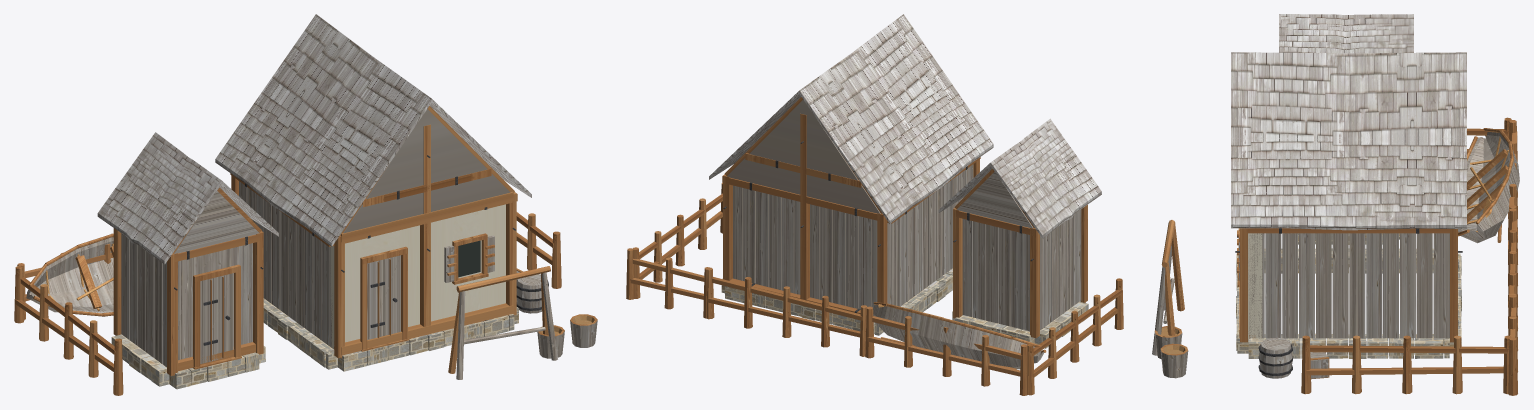
Rendered from fishing_camp_textured_v3.glb.
3 renders of one model, left to right at view 1: azimuth 30°, elevation 25°; view 2: azimuth 150°, elevation 25°; view 3: azimuth 270°, elevation 25°, orthographic. The views are drawn at different scales.
Parts seen in each view (by area): view 1: FC_Main_Roof_Left, FC_Shed_Roof_Left, FC_Main_Front_Gable, FC_Main_Left_Plank_Wall, FC_Main_Front_Window_Host, FC_Main_Front_Door_Host, FC_Shed_Left_Wall, FC_Leaning_River_Dugout, FC_Shed_Service_Door, FC_Main_Service_Door, FC_Shed_Front_Door_Host, FC_Fence_West (+21 smaller); view 2: FC_Main_Roof_Left, FC_Main_Rear_Plank_Wall, FC_Shed_Roof_Left, FC_Main_Rear_Gable, FC_Shed_Rear_Wall, FC_Main_Left_Plank_Wall, FC_Leaning_River_Dugout, FC_Shed_Left_Wall, FC_Fence_Rear_Centre, FC_Fence_Rear_West, FC_Fence_West, FC_Fence_East (+19 smaller); view 3: FC_Main_Roof_Right, FC_Main_Right_Plank_Wall, FC_Shed_Roof_Right, FC_Fence_East, FC_Leaning_River_Dugout, FC_Main_Foundation_Right, FC_Fish_Drying_Rack, FC_Main_Front_Window_Host, FC_Wash_Buckets, FC_Brine_Barrel, FC_Main_Right_Wall_Plate, FC_Fence_Rear_East (+8 smaller).
Part boxes in pixels (x1,y1,x2,y2): FC_Main_Roof_Left: (215,14,431,246); FC_Shed_Roof_Left: (97,132,221,264); FC_Main_Front_Gable: (340,106,514,235); FC_Main_Left_Plank_Wall: (239,181,332,347); FC_Main_Front_Window_Host: (427,191,513,334); FC_Main_Front_Door_Host: (330,213,427,355); FC_Shed_Left_Wall: (121,233,166,367); FC_Leaning_River_Dugout: (26,233,113,316); FC_Shed_Service_Door: (193,264,241,369); FC_Main_Service_Door: (360,246,409,351); FC_Shed_Front_Door_Host: (178,243,255,371); FC_Fence_West: (14,266,123,395); FC_Main_Roof_Left: (799,14,993,223); FC_Main_Rear_Plank_Wall: (733,185,877,309); FC_Shed_Roof_Left: (990,118,1101,238); FC_Main_Rear_Gable: (724,97,881,213); FC_Shed_Rear_Wall: (962,219,1029,331); FC_Main_Left_Plank_Wall: (887,164,972,306); FC_Leaning_River_Dugout: (873,302,1046,369); FC_Shed_Left_Wall: (1040,209,1081,330); FC_Fence_Rear_Centre: (706,267,867,356); FC_Fence_Rear_West: (865,306,1027,395); FC_Fence_West: (1027,278,1123,395); FC_Fence_East: (633,182,722,298); FC_Main_Roof_Right: (1231,52,1466,230); FC_Main_Right_Plank_Wall: (1248,233,1449,338); FC_Shed_Roof_Right: (1279,14,1413,53); FC_Fence_East: (1301,335,1511,394); FC_Leaning_River_Dugout: (1458,128,1519,243); FC_Main_Foundation_Right: (1248,333,1449,358); FC_Fish_Drying_Rack: (1152,220,1184,355); FC_Main_Front_Window_Host: (1239,233,1262,338); FC_Wash_Buckets: (1154,326,1188,378); FC_Brine_Barrel: (1258,337,1292,378); FC_Main_Right_Wall_Plate: (1248,228,1449,233); FC_Fence_Rear_East: (1508,294,1517,395).
Bounding box in the file's own units: 10.51 × 5.69 × 7.29.
14 materials, 13 textured.
